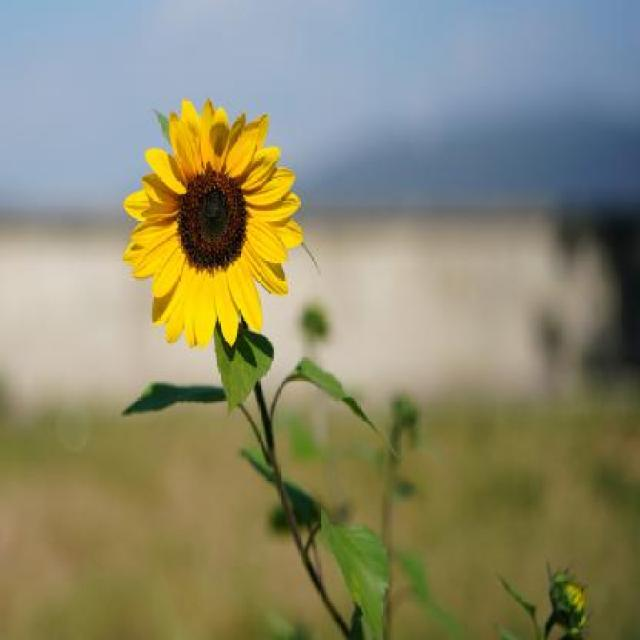sunflower: (115, 94, 307, 349)
